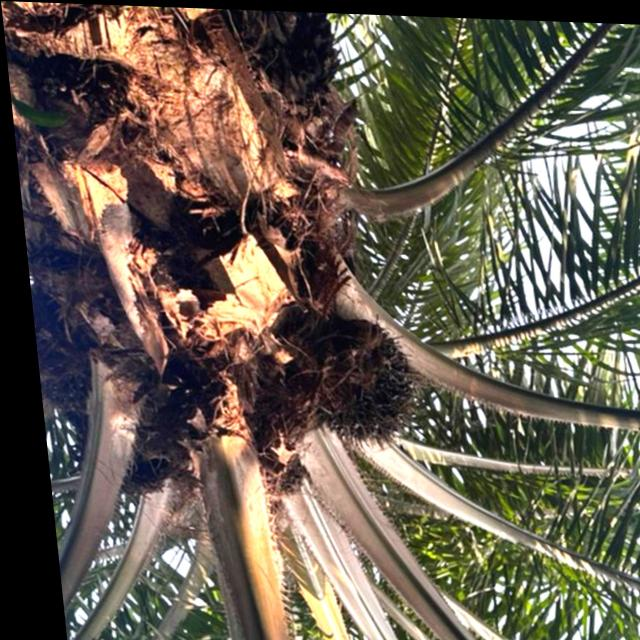unripe: (283, 304, 432, 456)
